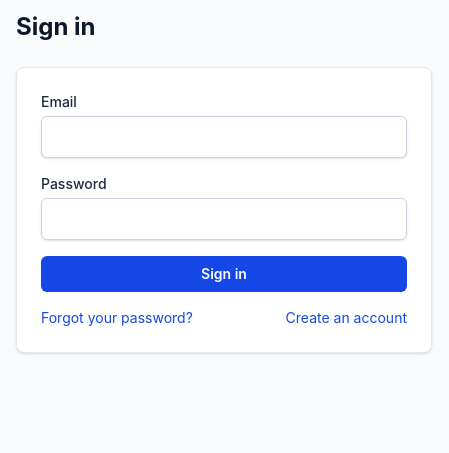
Test case: SignIn › shows a friendly message when the network is down
Click the button "Sign in". click: (224, 274)
box: [41,256,407,292]
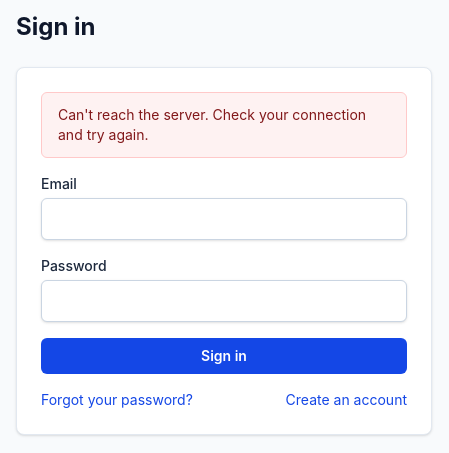
Check: the message shows "Can't reach the server", box [58,106,366,143]
